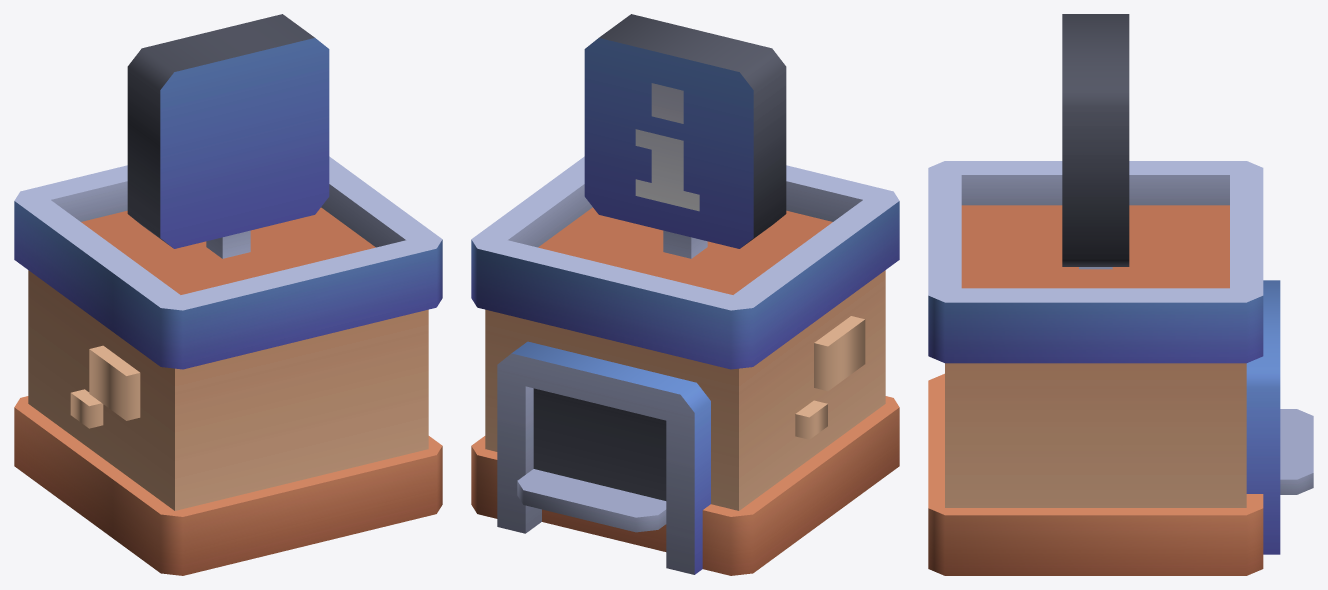
The model's file is stall-information.glb.
3 views of the same model, side by side, from view 1: azimuth 30°, elevation 25°; view 2: azimuth 150°, elevation 25°; view 3: azimuth 270°, elevation 25° (orthographic). The views are drawn at different scales.
Parts seen in each view (by area): view 1: stall-information; view 2: stall-information; view 3: stall-information.
Boxes of the visible parts, <box> form: stall-information: <box>14,14,442,575</box>; stall-information: <box>471,14,899,575</box>; stall-information: <box>928,14,1313,575</box>.
Bounding box in the file's own units: 1 × 1.5 × 1.15.
1 material, 1 textured.
